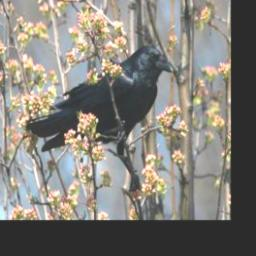Crow: (29, 41, 179, 189)
